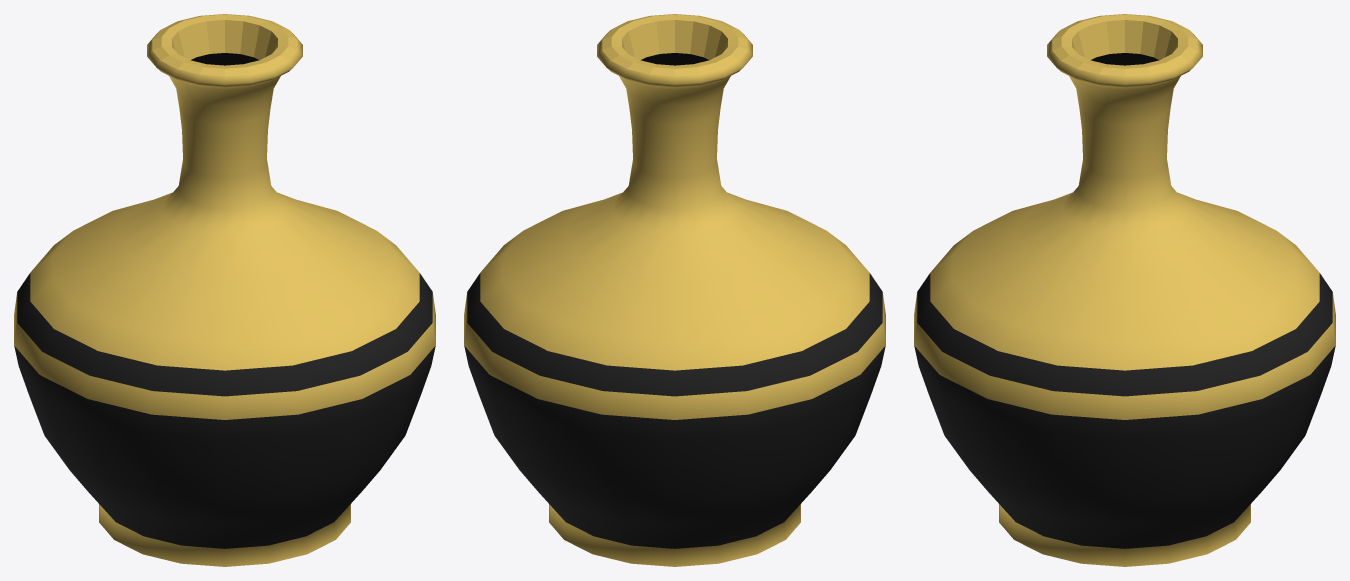
Rendered from Jarron1.fbx.
The picture shows the model from 3 angles, left to right: view 1: azimuth 30°, elevation 25°; view 2: azimuth 150°, elevation 25°; view 3: azimuth 270°, elevation 25°; orthographic projection.
Visible parts, largest first — view 1: Jarron1; view 2: Jarron1; view 3: Jarron1.
Part boxes in pixels (left/top/right/bottom): Jarron1: left=14, top=14, right=435, bottom=566; Jarron1: left=464, top=14, right=885, bottom=566; Jarron1: left=914, top=14, right=1335, bottom=566.
Bounding box in the file's own units: 103 × 125 × 101.
